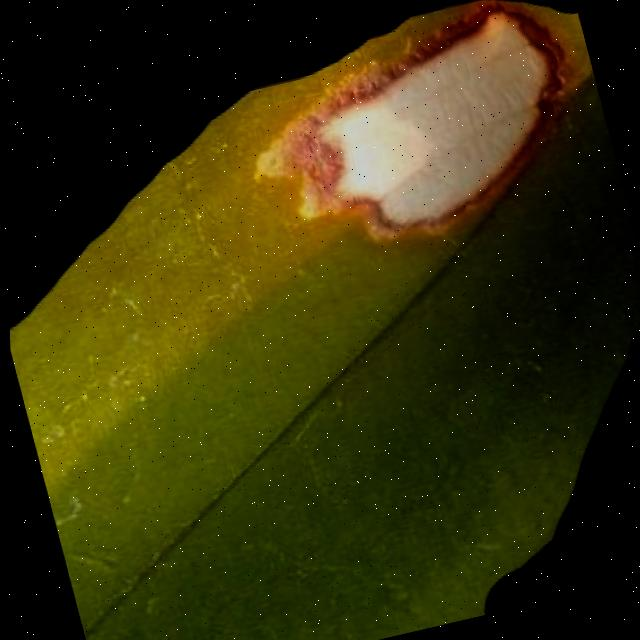mite: (415, 321, 640, 616)
spots: (2, 0, 640, 640)
sunburn: (231, 0, 603, 271)
